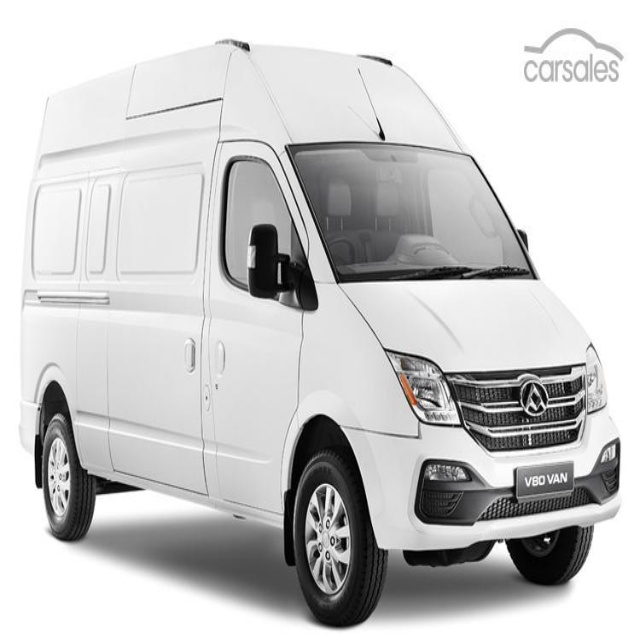Van: (19, 38, 620, 628)
